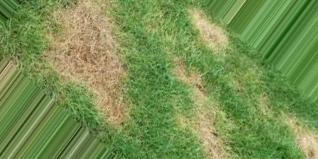patch: (50, 13, 123, 113), (168, 59, 223, 157), (197, 17, 226, 48), (291, 118, 312, 153)
